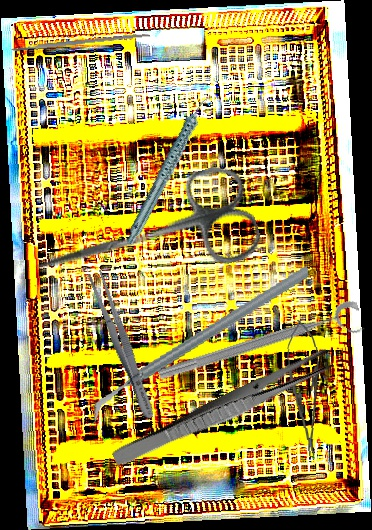Chopper: (74, 264, 327, 424)
Dressing Forceps: (110, 346, 336, 474), (84, 268, 160, 422)
Fixation Ring: (155, 298, 367, 398)
Handpiece: (98, 92, 241, 246)
Iris Scissors: (24, 159, 266, 318)
Needle Holder: (282, 318, 328, 458)
Scalpel Handle: (11, 31, 150, 53)
